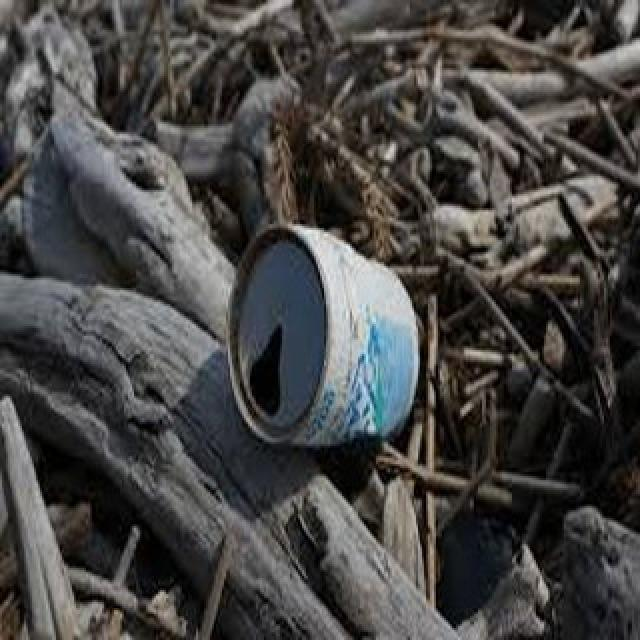can: (226, 226, 423, 457)
